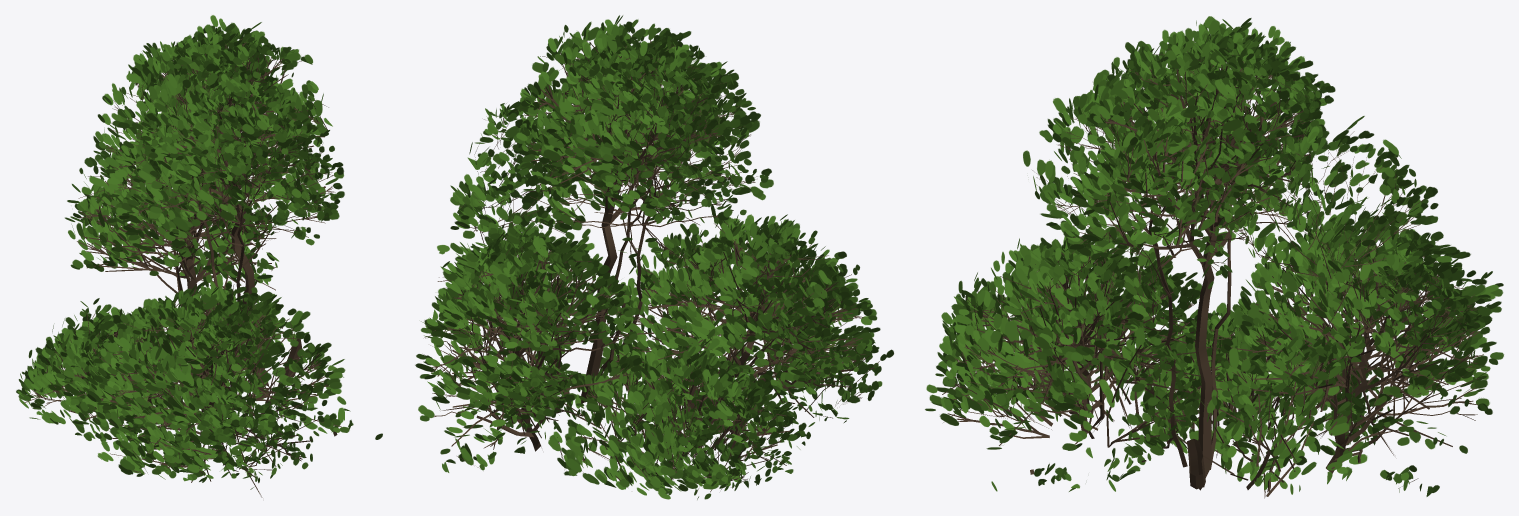
The picture shows the model from 3 angles, left to right: view 1: azimuth 30°, elevation 25°; view 2: azimuth 150°, elevation 25°; view 3: azimuth 270°, elevation 25°; orthographic projection. The views are drawn at different scales.
Parts seen in each view (by area): view 1: oak 01.001_trunk_Mat.001_0.213; view 2: oak 01.001_trunk_Mat.001_0.213; view 3: oak 01.001_trunk_Mat.001_0.213.
Boxes of the visible parts, x1=… form: oak 01.001_trunk_Mat.001_0.213: x1=16, y1=15, x2=382, y2=497; oak 01.001_trunk_Mat.001_0.213: x1=415, y1=15, x2=893, y2=499; oak 01.001_trunk_Mat.001_0.213: x1=925, y1=16, x2=1503, y2=498.
Size of the model in its own units: 2.77 by 3.63 by 4.31.
2 materials, 1 textured.
